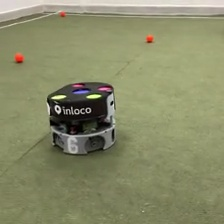ball: (14, 52, 23, 63), (146, 33, 153, 43), (59, 9, 66, 16)
robot: (45, 80, 119, 157)
